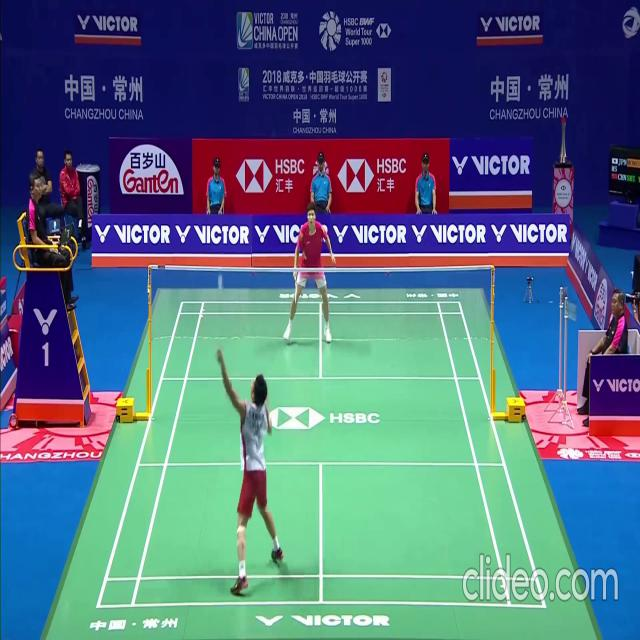Shuttlecock: (218, 285, 222, 292)
